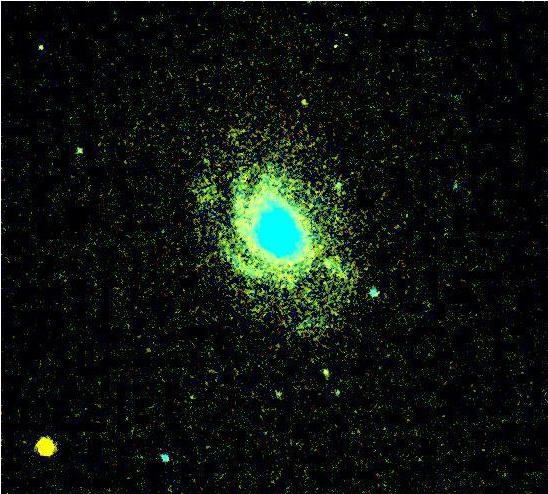star: (30, 429, 60, 459)
